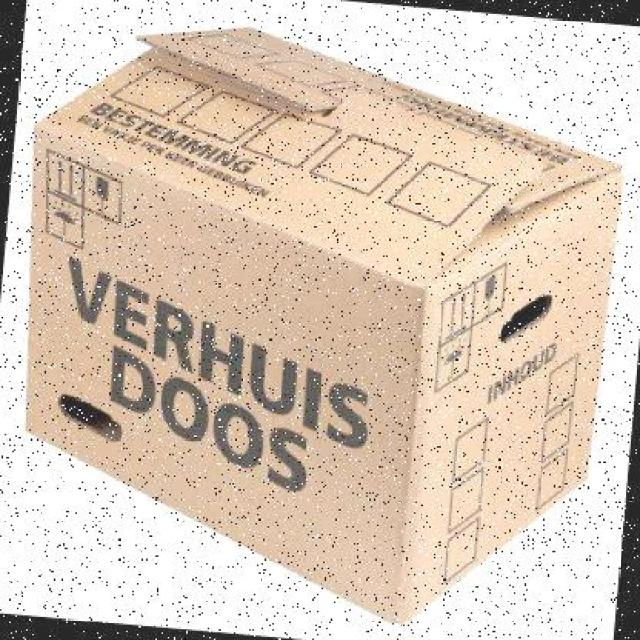box: (23, 24, 622, 625)
normal_hole: (56, 392, 123, 444), (498, 293, 553, 344)
